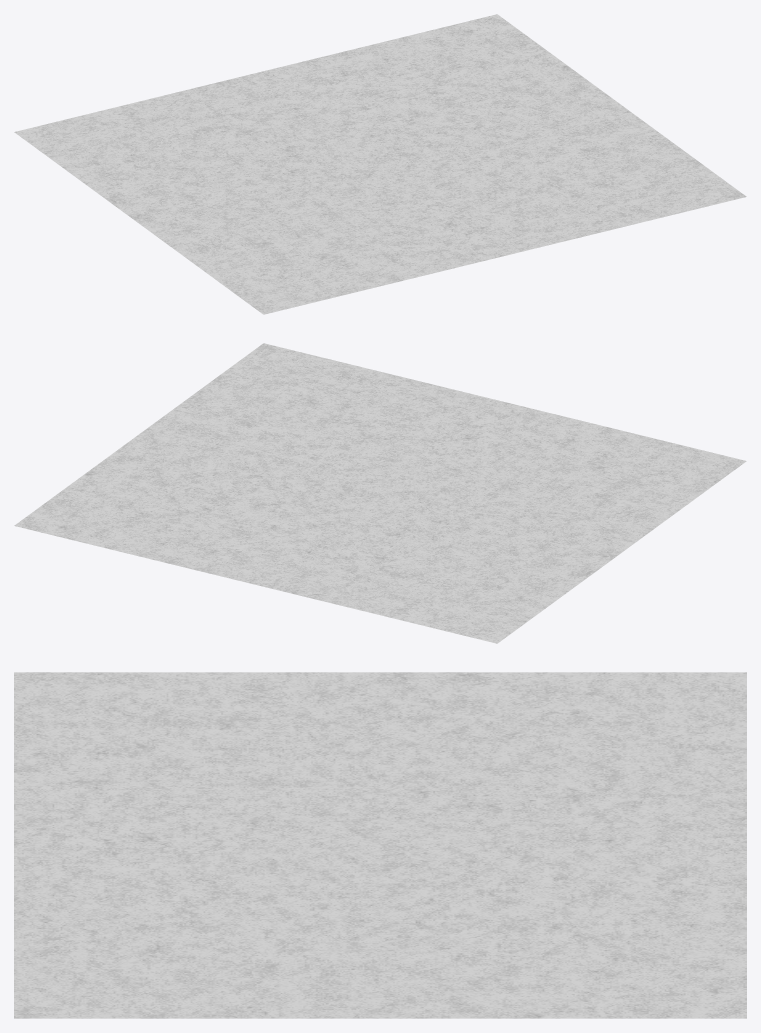
Rendered from dining-room_0_0.ceiling.glb.
3 renders of one model, top to bottom at view 1: azimuth 30°, elevation 25°; view 2: azimuth 150°, elevation 25°; view 3: azimuth 270°, elevation 25°, orthographic. The views are drawn at different scales.
Parts seen in each view (by area): view 1: dining-room_0/0.ceiling.001; view 2: dining-room_0/0.ceiling.001; view 3: dining-room_0/0.ceiling.001.
Boxes of the visible parts, x1,y1,x2,y2 form: dining-room_0/0.ceiling.001: [14, 14, 746, 314]; dining-room_0/0.ceiling.001: [14, 343, 746, 643]; dining-room_0/0.ceiling.001: [14, 672, 746, 1018].
Bounding box in the file's own units: 4.74 × 0 × 4.24.
1 material, 1 textured.
